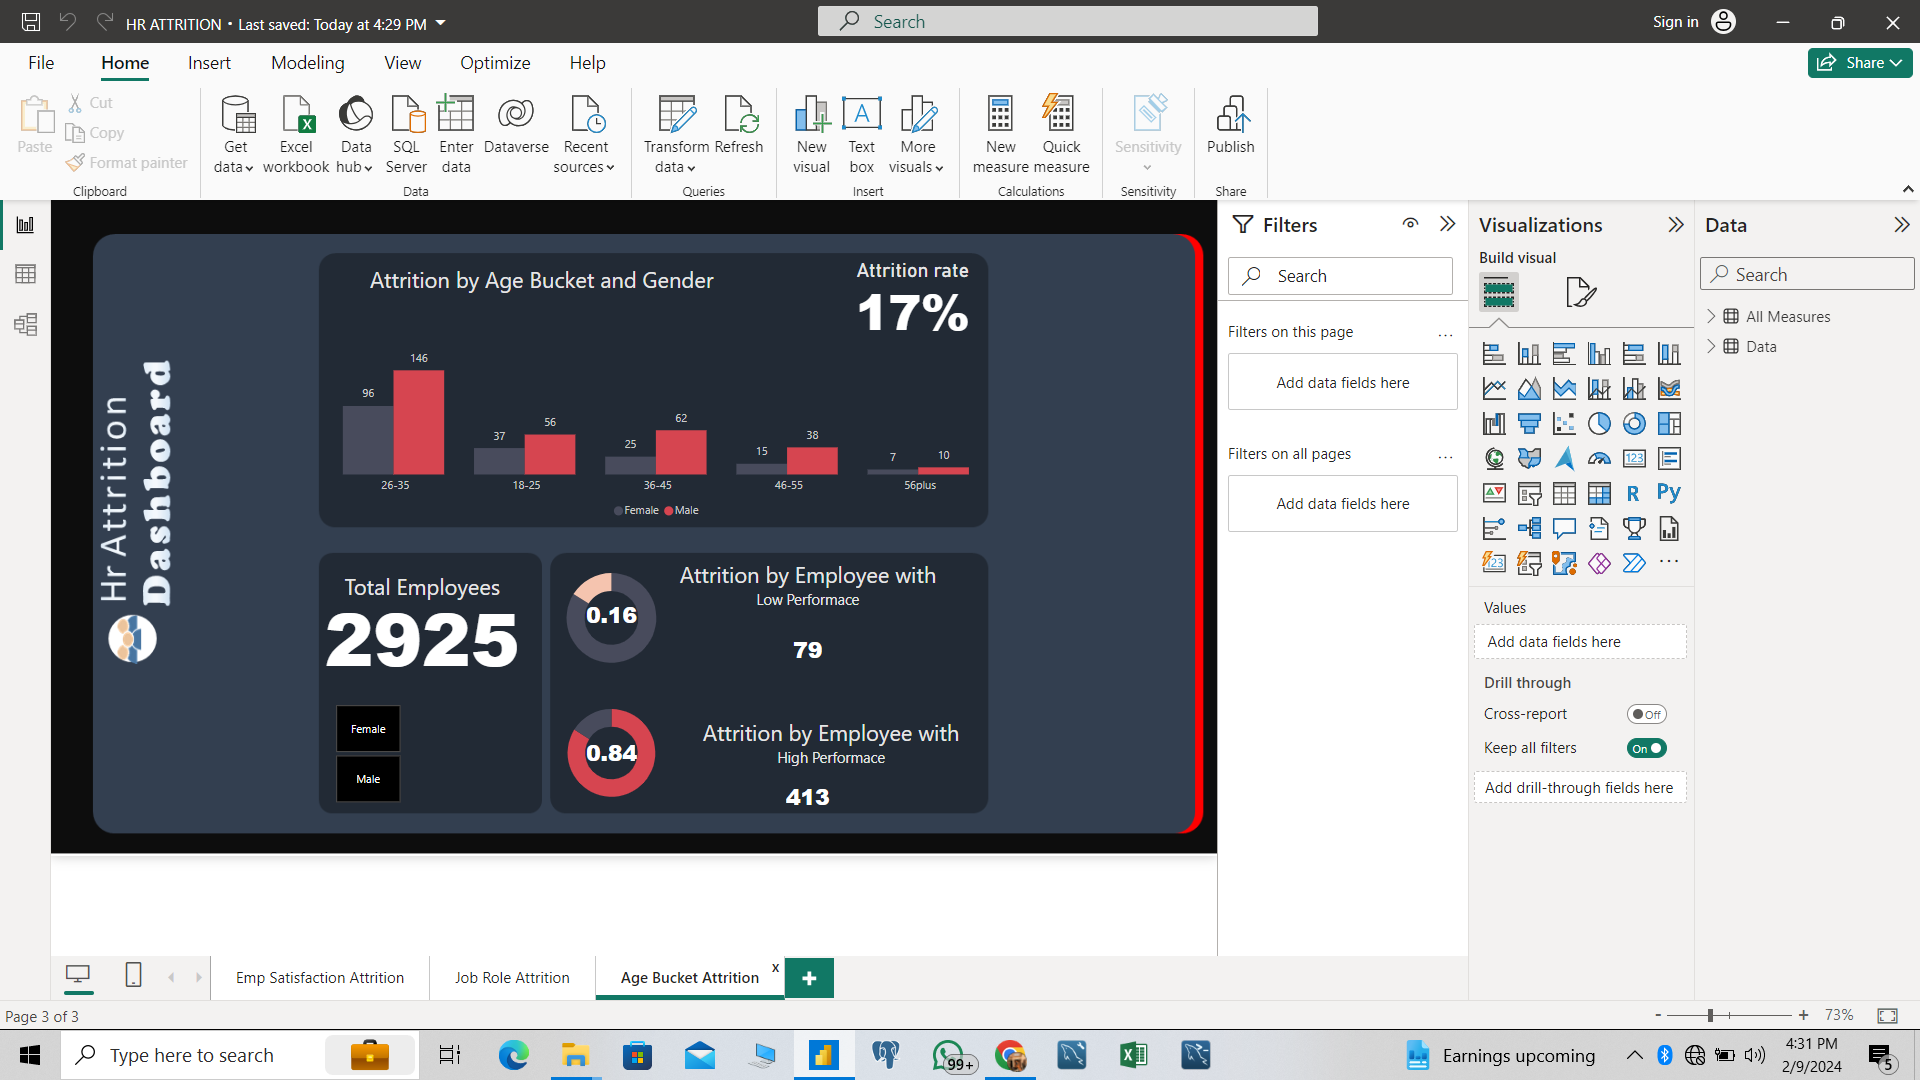

Layout of this report page (visuals, bound fields, positions):
{"tool":"powerbi","page":{"name":"Age Bucket Attrition","canvas":[1280,720],"ordinal":2},"visuals":[{"type":"card","fields":{"Values":["All Measures.Total Employees"]},"box":[272,424.3,271.7,104.3],"z":0},{"type":"textbox","box":[306.3,403.7,203.1,42.5],"z":1000},{"type":"card","title":"Attrition rate","fields":{"Values":["All Measures.% Attrition"]},"box":[871.4,64.5,149.6,87.8],"z":2000},{"type":"textbox","box":[329.3,65.9,418.5,42.5],"z":3000},{"type":"clusteredColumnChart","fields":{"Category":["Data.Age Bucket"],"Y":["All Measures.Inactive Employee"],"Series":["Data.Gender"]},"box":[258,152.3,816.5,207.2],"z":4000},{"type":"textbox","box":[691.6,564,329.3,72.7],"z":5000},{"type":"textbox","box":[666.9,389.7,328,71.4],"z":6000},{"type":"donutChart","fields":{"Category":["Data.Performance Status"],"Y":["All Measures.Inactive Employee"]},"box":[548.9,389.7,133.1,138.6],"z":7000},{"type":"donutChart","fields":{"Category":["Data.Performance Status"],"Y":["All Measures.Inactive Employee"]},"box":[548.9,542,133.1,130.4],"z":8000},{"type":"card","title":"Attrition rate","fields":{"Values":["All Measures.% High Performance"]},"box":[575,437.7,81,38.4],"z":9000},{"type":"card","title":"Attrition rate","fields":{"Values":["All Measures.%Low Performance"]},"box":[575,588.7,81,38.4],"z":10000},{"type":"card","title":"Attrition rate","fields":{"Values":["All Measures.Inactive Employee"]},"box":[790.4,636.7,81,38.4],"z":11000},{"type":"card","title":"Attrition rate","fields":{"Values":["All Measures.Inactive Employee"]},"box":[790.4,476.2,81,38.4],"z":12000},{"type":"slicer","fields":{"Values":["Data.Gender"]},"box":[286.8,547.5,120.8,120.8],"z":13000}]}

Visuals, with their boxes on the page's 1280x720 design canvas (x1, y1, x2, y2). These are canvas units, not pixel positions in the 1920x1080 screenshot, which may show the page scaled, cropped or inside an application window:
card - All Measures.Total Employees: (x1=272, y1=424, x2=544, y2=529)
textbox: (x1=306, y1=404, x2=509, y2=446)
"Attrition rate" card: (x1=871, y1=64, x2=1021, y2=152)
textbox: (x1=329, y1=66, x2=748, y2=108)
clusteredColumnChart - Data.Age Bucket x All Measures.Inactive Employee: (x1=258, y1=152, x2=1074, y2=360)
textbox: (x1=692, y1=564, x2=1021, y2=637)
textbox: (x1=667, y1=390, x2=995, y2=461)
donutChart - Data.Performance Status x All Measures.Inactive Employee: (x1=549, y1=390, x2=682, y2=528)
donutChart - Data.Performance Status x All Measures.Inactive Employee: (x1=549, y1=542, x2=682, y2=672)
"Attrition rate" card: (x1=575, y1=438, x2=656, y2=476)
"Attrition rate" card: (x1=575, y1=589, x2=656, y2=627)
"Attrition rate" card: (x1=790, y1=637, x2=871, y2=675)
"Attrition rate" card: (x1=790, y1=476, x2=871, y2=515)
slicer - Data.Gender: (x1=287, y1=548, x2=408, y2=668)
